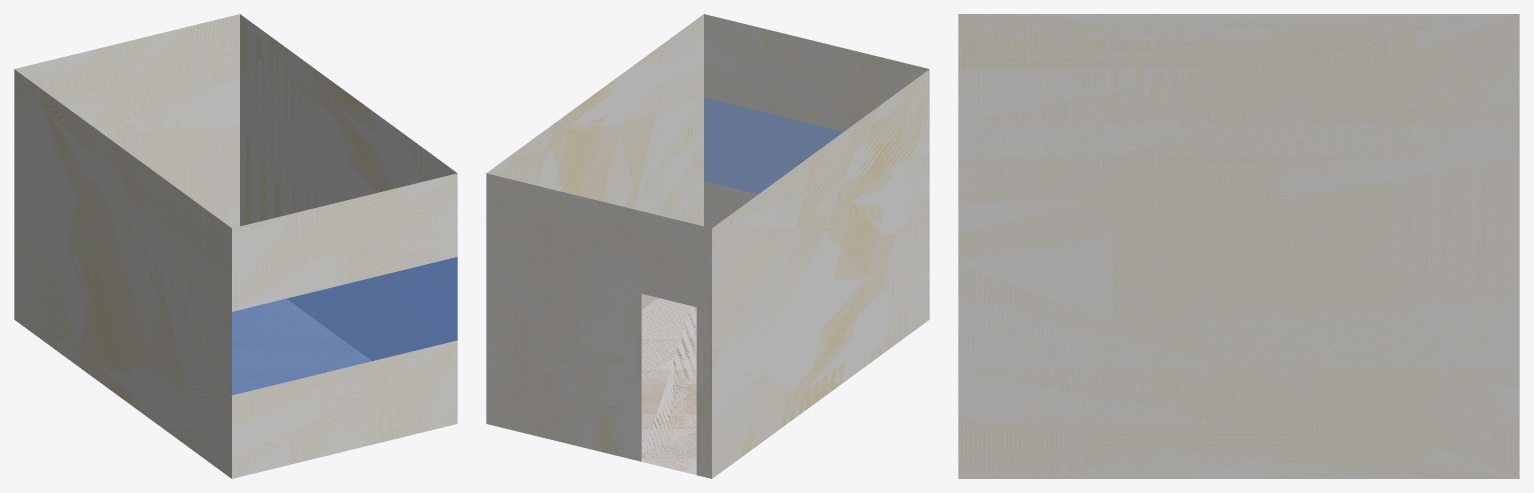
The model's file is DES010.obj.
3 renders of one model, left to right at view 1: azimuth 30°, elevation 25°; view 2: azimuth 150°, elevation 25°; view 3: azimuth 270°, elevation 25°, orthographic. The views are drawn at different scales.
Visible parts, largest first — view 1: Mesh1 DES010 Model; view 2: Mesh1 DES010 Model; view 3: Mesh1 DES010 Model.
Part boxes in pixels (x1=…): Mesh1 DES010 Model: x1=14, y1=14, x2=457, y2=478; Mesh1 DES010 Model: x1=486, y1=14, x2=929, y2=478; Mesh1 DES010 Model: x1=958, y1=14, x2=1519, y2=478.
Bounding box in the file's own units: 2.82 × 2.99 × 4.72.
5 materials, 1 textured.
